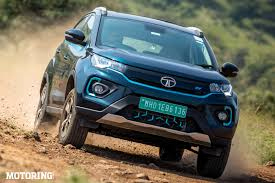Tata Nexon: (35, 6, 239, 181)
